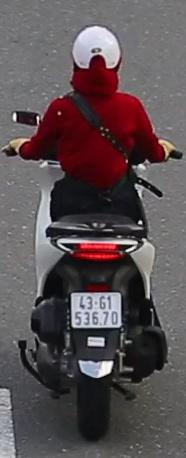LP: (68, 287, 123, 332)
helmet: (69, 22, 125, 103)
